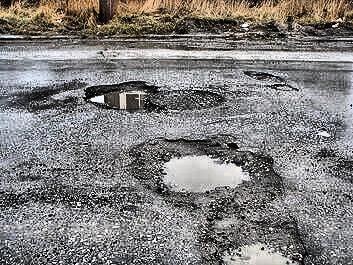pothole: (130, 138, 280, 200), (215, 218, 296, 265), (80, 78, 161, 116), (253, 70, 298, 95)
